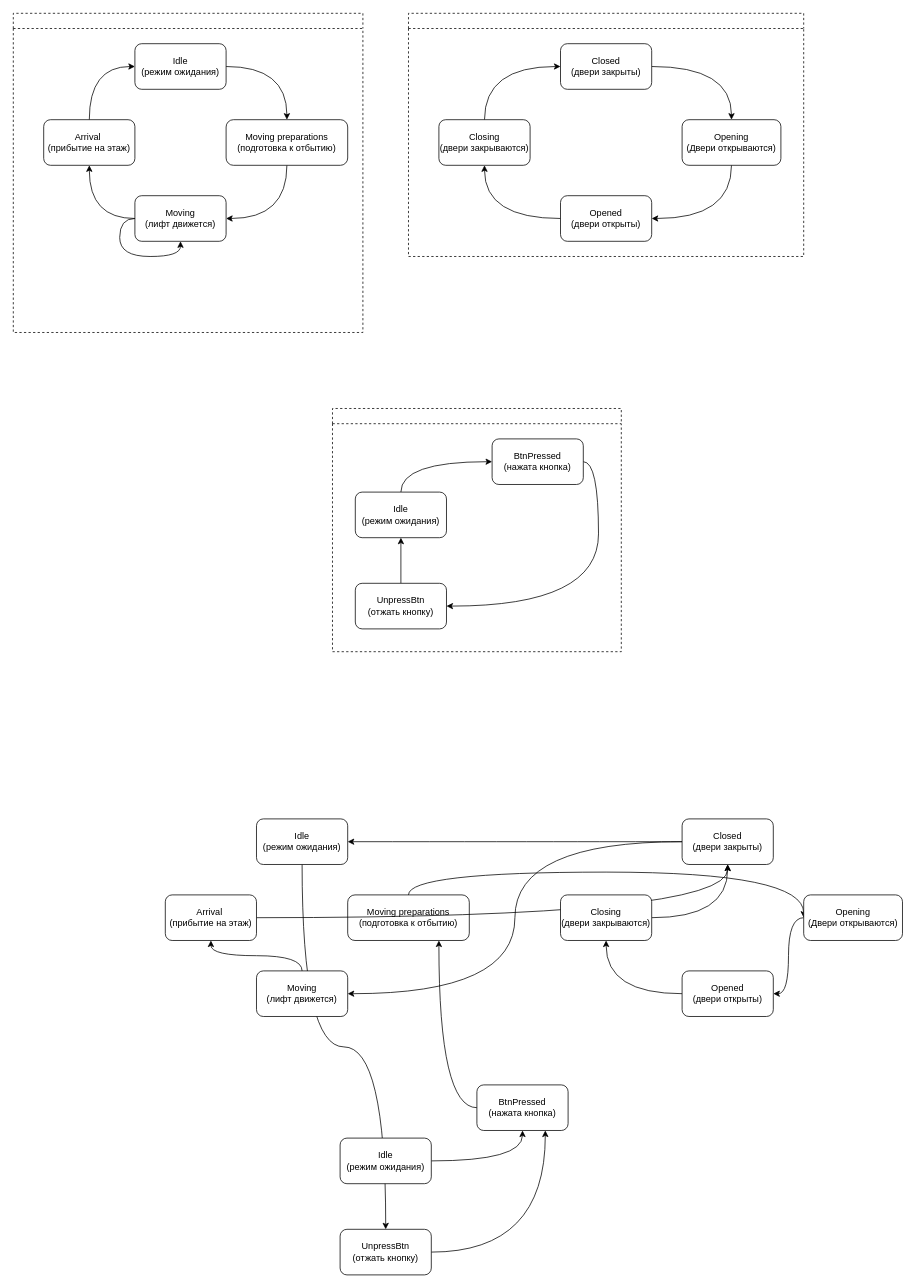
Some shapes in this 916 by 1288 pixel diagram are drawn without their labels. Here are the shapes that lost their labels. From the top down, the box of each, then its label:
(408, 13, 804, 256): Двери лифта
(13, 13, 363, 332): Кабина лифта
(332, 408, 621, 652): Контроллер
